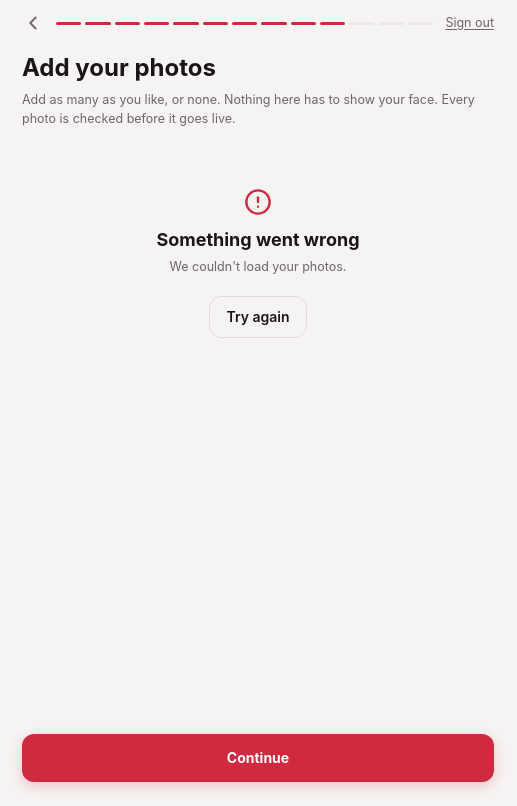
Test case: loading, empty and error (CLAUDE.md rule 14) › says so when the photos can't load, and tries again
Click the button "Try again".
click(258, 317)  # box [210,296,307,338]
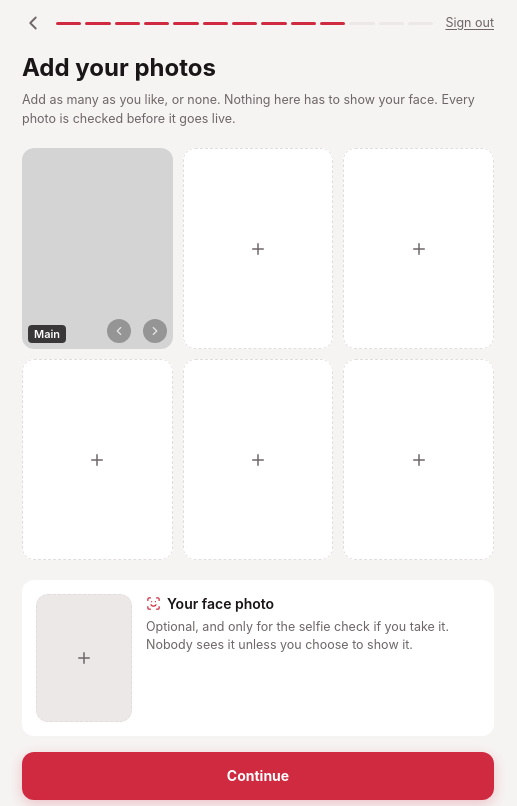
Result: the list is shown at [22,148,494,560]
